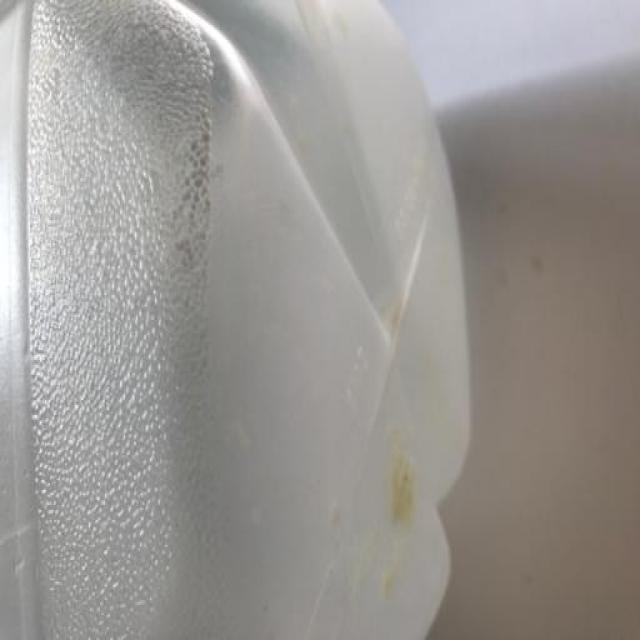Waste: (0, 2, 470, 639)
